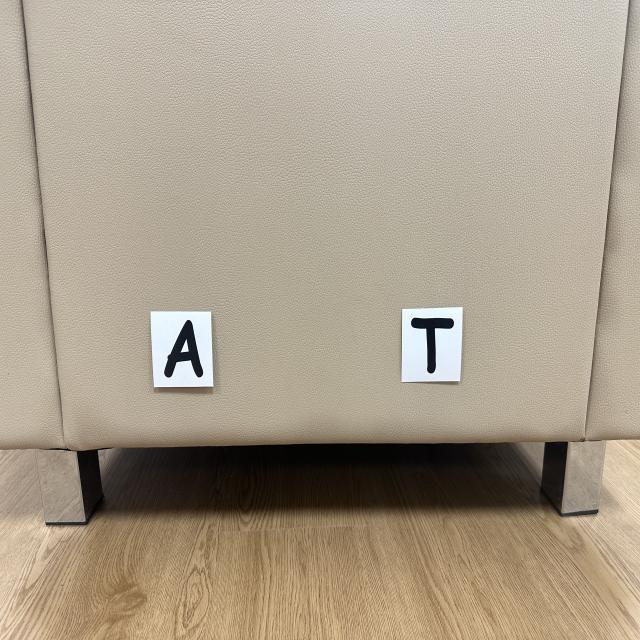A: (164, 320, 204, 378)
T: (411, 317, 454, 373)
